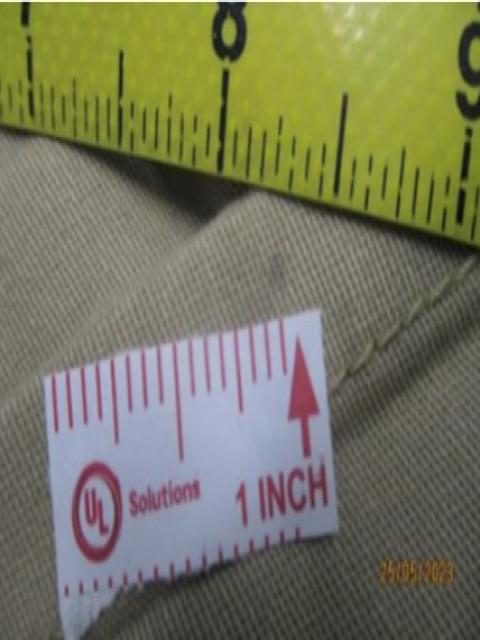Dirty_mark: (270, 246, 291, 298)
